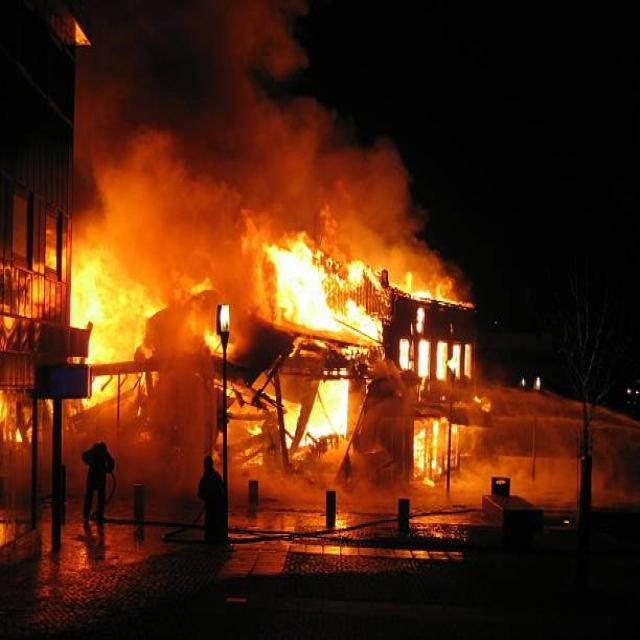Fire: (270, 222, 392, 362), (68, 252, 146, 386), (394, 328, 482, 394), (297, 374, 359, 439)
Smoke: (93, 7, 450, 301), (132, 279, 220, 406)
